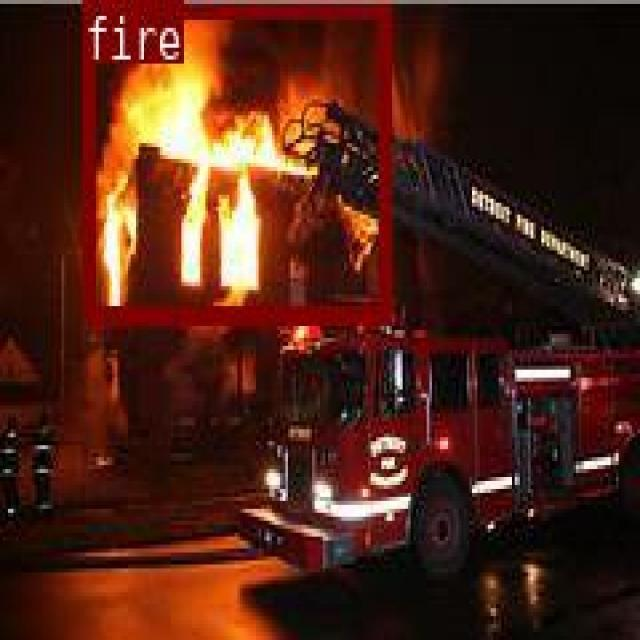fire: (81, 0, 388, 318)
